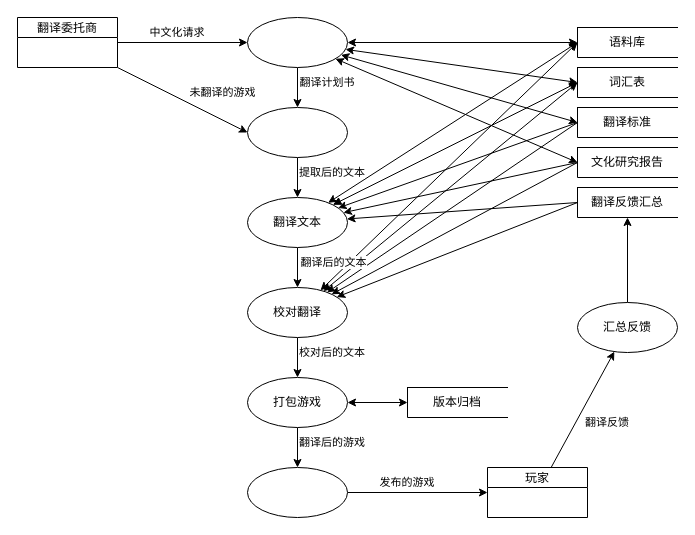
Image size: 695x535. Some labels were removed from this diagram. Each missing label, with the centre of its shape:
"准备翻译" goes at pixel 297 42.
"发布游戏" goes at pixel 297 492.
"提取文本" goes at pixel 297 132.
